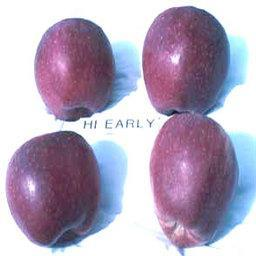apple: (149, 112, 240, 246), (3, 129, 101, 249), (144, 7, 233, 116), (32, 16, 115, 122)
